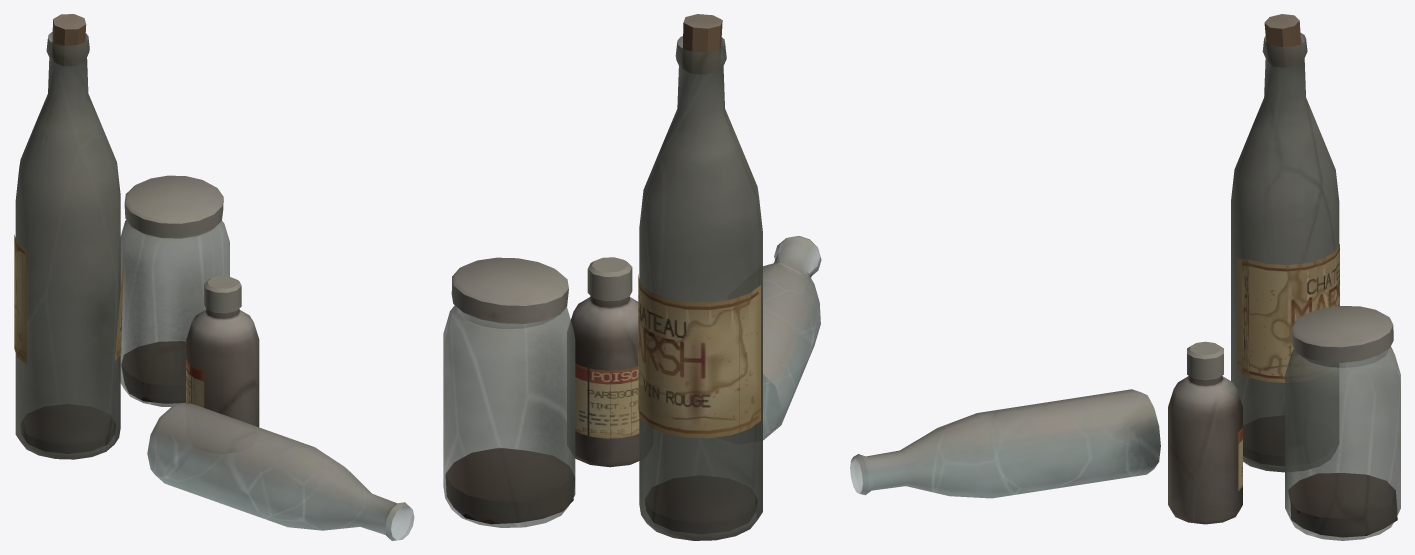
File: dressing_bottles.glb
The picture shows the model from 3 angles, left to right: view 1: azimuth 30°, elevation 25°; view 2: azimuth 150°, elevation 25°; view 3: azimuth 270°, elevation 25°; orthographic projection. The views are drawn at different scales.
Parts seen in each view (by area): view 1: dressing_bottles_glass, dressing_bottles; view 2: dressing_bottles_glass, dressing_bottles; view 3: dressing_bottles_glass, dressing_bottles.
Boxes of the visible parts, x1,y1,x2,y2 form: dressing_bottles_glass: (15,32,414,540); dressing_bottles: (14,14,241,453); dressing_bottles_glass: (443,36,821,540); dressing_bottles: (445,14,760,533); dressing_bottles_glass: (850,32,1400,540); dressing_bottles: (1187,14,1397,537).
Size of the model in its own units: 0.1875 by 0.3289 by 0.3805.
Materials: 2 (2 with a texture image).
